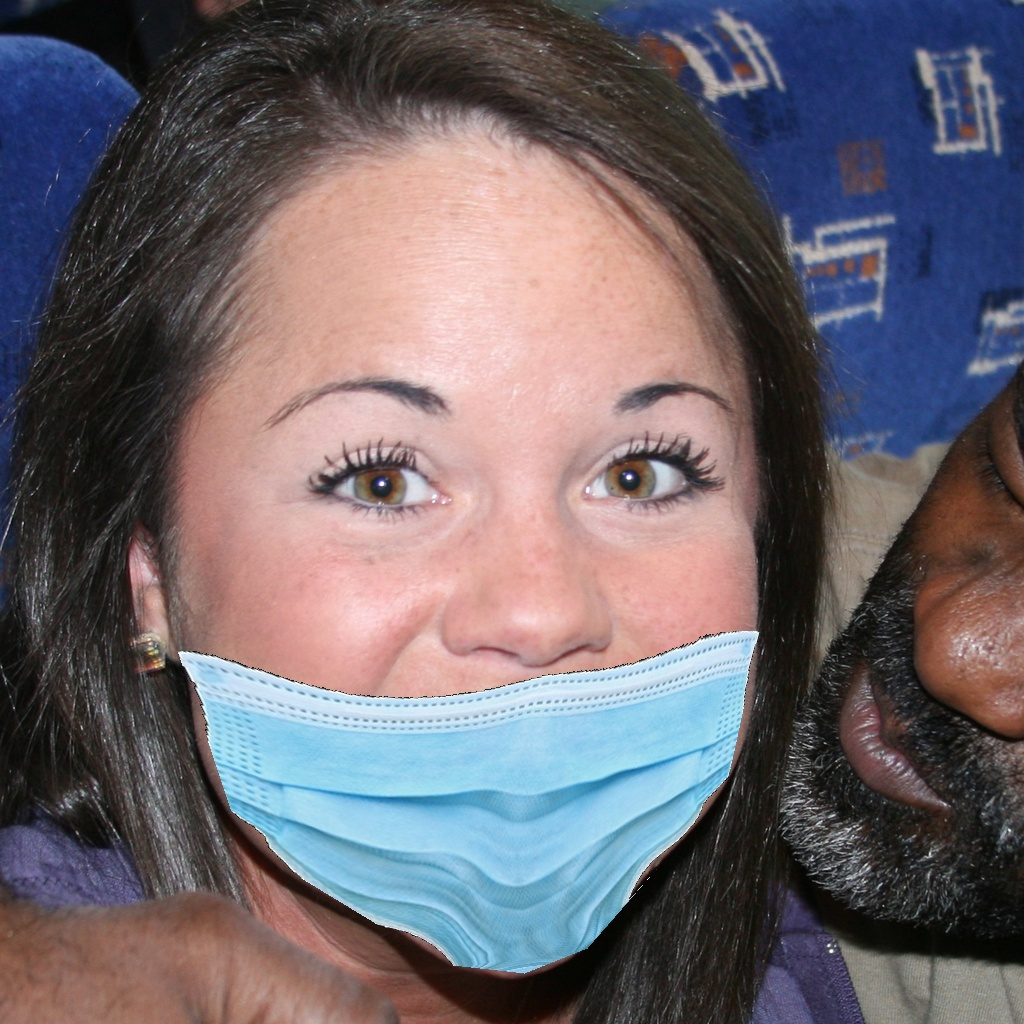mascarilla_mal_puesta: (112, 318, 782, 993)
